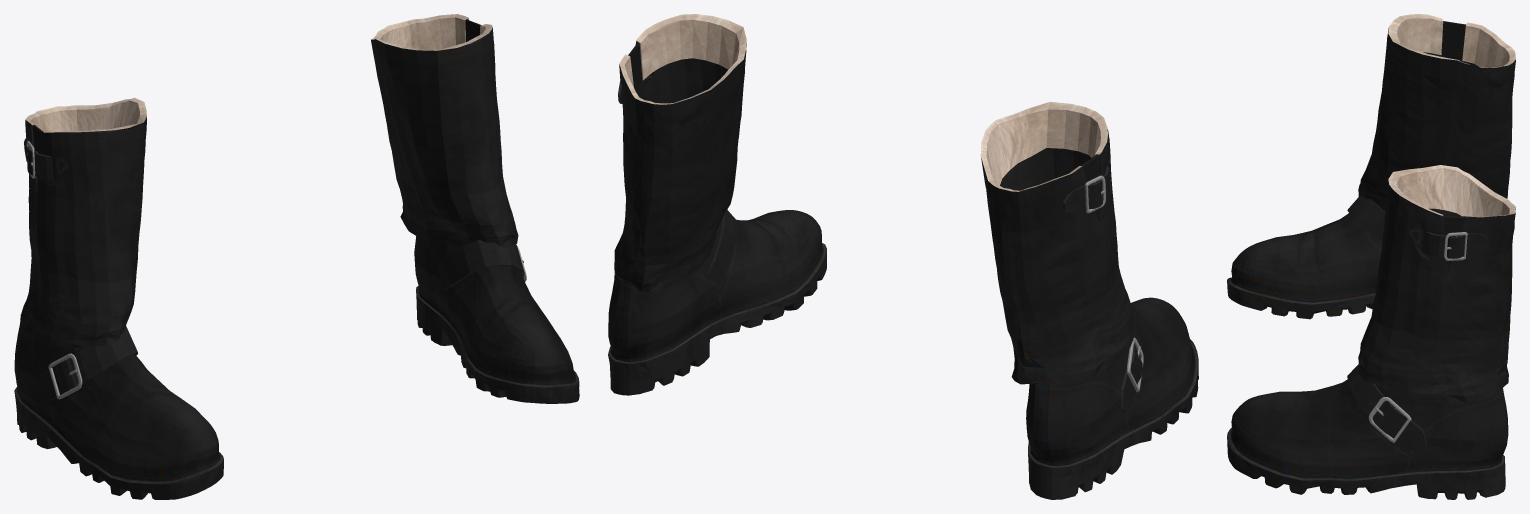
Rendered from mhw_mindfront_shoes_biker_boots_female.glb.
The picture shows the model from 3 angles, left to right: view 1: azimuth 30°, elevation 25°; view 2: azimuth 150°, elevation 25°; view 3: azimuth 270°, elevation 25°; orthographic projection. The views are drawn at different scales.
Visible parts, largest first — view 1: mhw_mindfront_shoes_biker_boots_female; view 2: mhw_mindfront_shoes_biker_boots_female; view 3: mhw_mindfront_shoes_biker_boots_female.
Boxes of the visible parts, <box> form: mhw_mindfront_shoes_biker_boots_female: <box>14,14,579,499</box>; mhw_mindfront_shoes_biker_boots_female: <box>608,14,1198,499</box>; mhw_mindfront_shoes_biker_boots_female: <box>1227,14,1515,499</box>.
Bounding box in the file's own units: 0.5284 × 0.3461 × 0.3084.
1 material, 1 textured.
